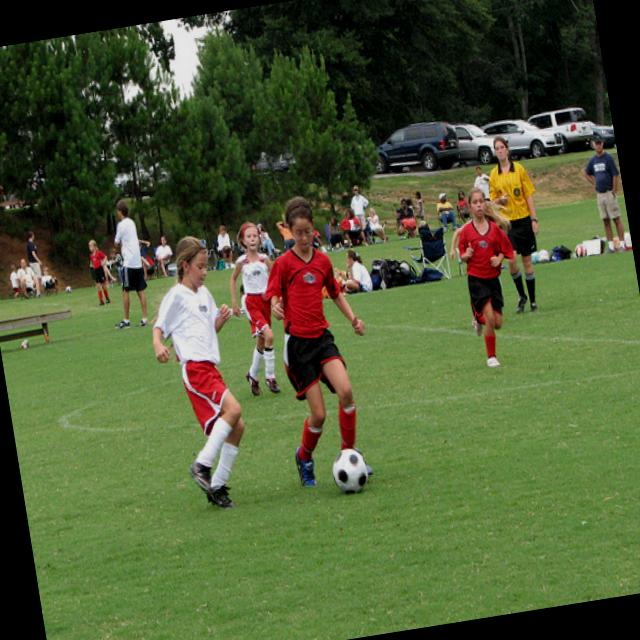Vehicle: (370, 114, 463, 181), (480, 111, 565, 166), (527, 104, 598, 158), (452, 118, 497, 168), (249, 148, 297, 175), (590, 118, 616, 150), (127, 176, 156, 202)
